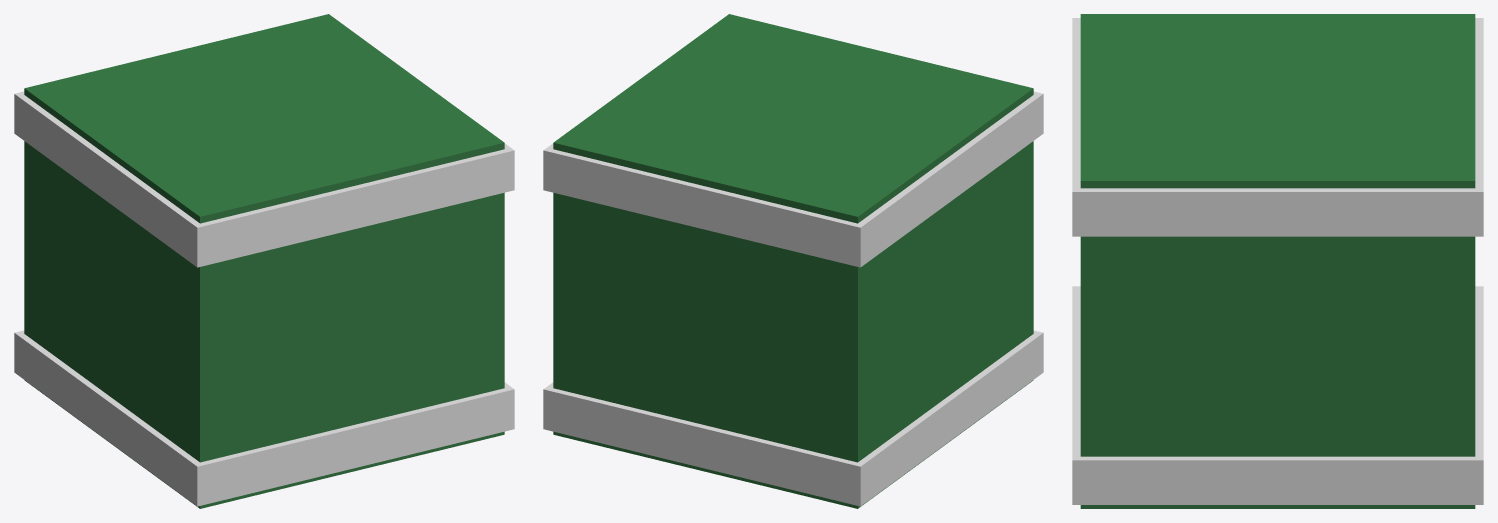
The model's file is tackle_box.glb.
3 views of the same model, side by side, from view 1: azimuth 30°, elevation 25°; view 2: azimuth 150°, elevation 25°; view 3: azimuth 270°, elevation 25° (orthographic). The views are drawn at different scales.
Parts seen in each view (by area): view 1: tackle_box_v0; view 2: tackle_box_v0; view 3: tackle_box_v0.
Boxes of the visible parts, x1=… form: tackle_box_v0: x1=14, y1=14, x2=514, y2=508; tackle_box_v0: x1=543, y1=14, x2=1043, y2=508; tackle_box_v0: x1=1072, y1=14, x2=1483, y2=508.
Size of the model in its own units: 0.25 by 0.22 by 0.25.
